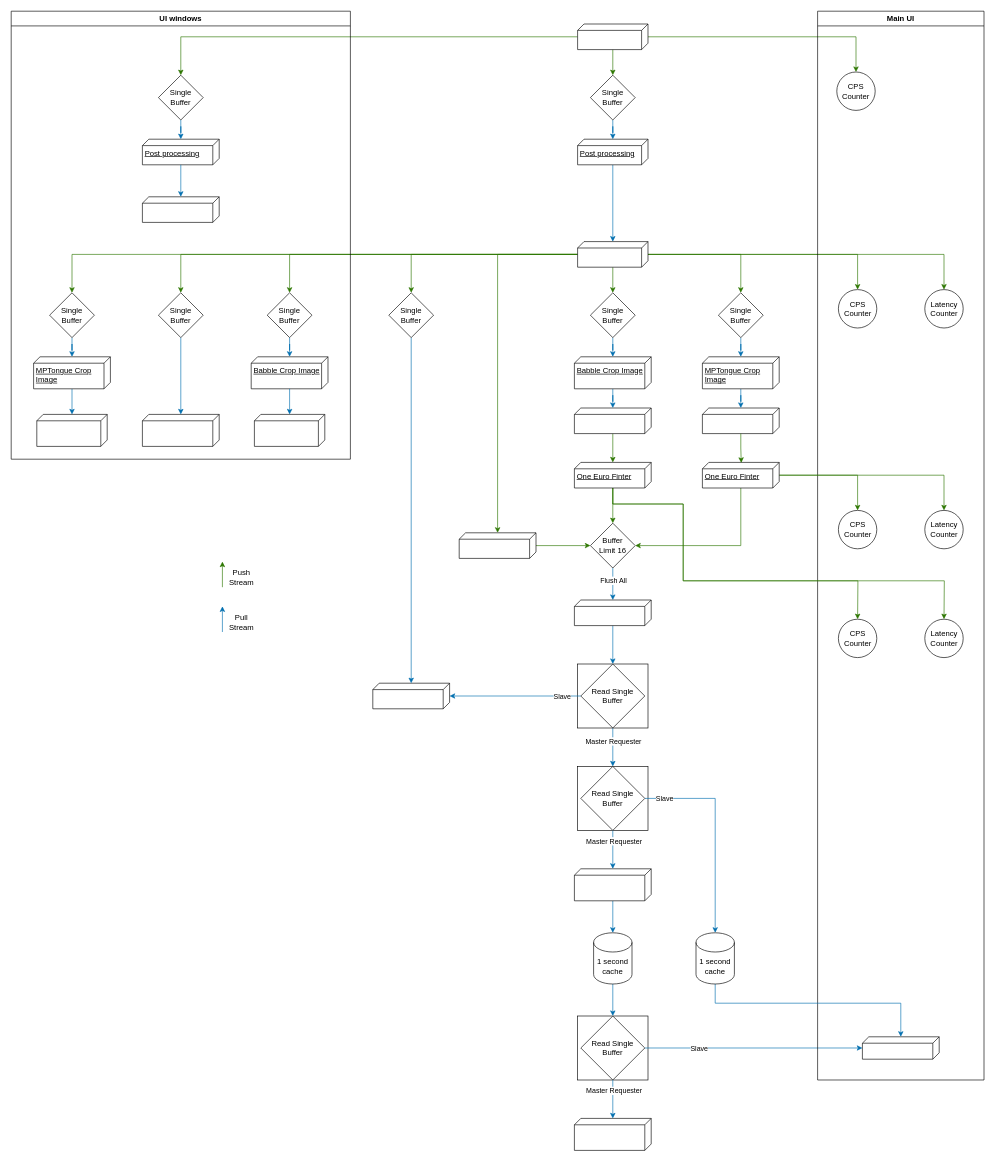
Image size: 995x1162. Some labels were removed from this diagram. Each missing label, with the centre of its shape:
Auto Calibration: the point at 411,696
Babble: the point at 612,420
Babble Preview: the point at 289,430
Camera Preview: the point at 180,209
Camera Stream: the point at 612,36
Encoder / UDP Sender: the point at 612,1134
MediaPipe: the point at 612,254
MediaPipe Preview: the point at 180,430
Mixer: the point at 612,612
MPTongue: the point at 740,420
MPTongue Preview: the point at 71,430
Post processing / Calibration: the point at 612,884
To BlendShape: the point at 497,545
UI Thread: the point at 900,1047
